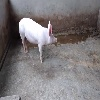heo: (17, 16, 60, 64)
